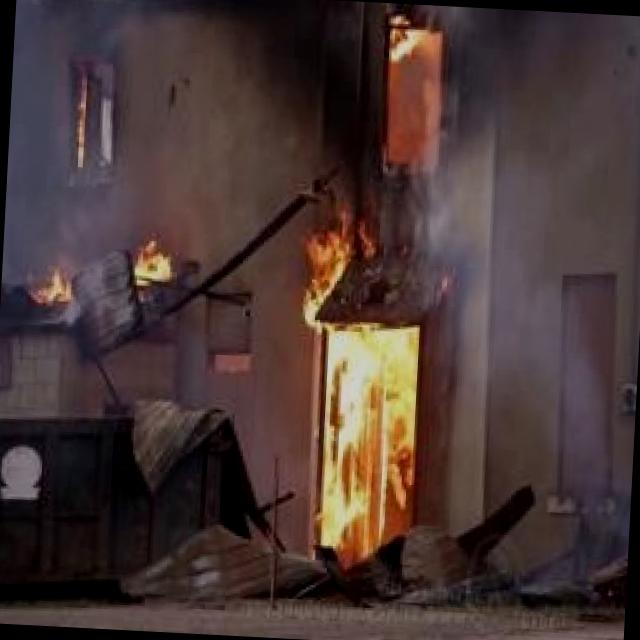fire: (302, 316, 425, 540), (365, 4, 454, 178)
